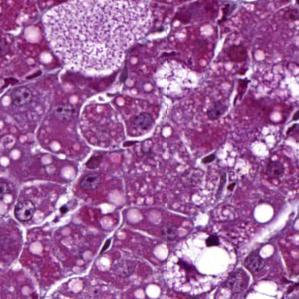ballooning: (162, 229, 238, 297)
